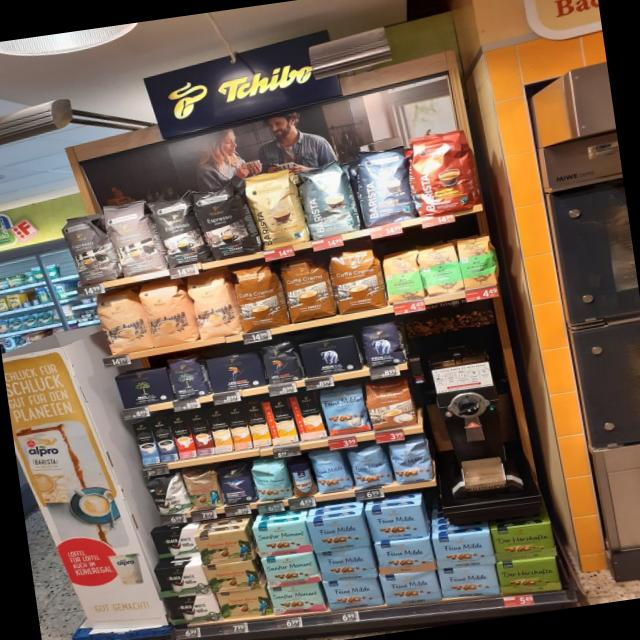AB Bohne: (361, 320, 407, 368)
AB Gemahlen: (298, 334, 361, 378), (454, 232, 500, 290)
Athiopien Gemahlen: (418, 241, 462, 297), (381, 252, 425, 304)
BM Bohne: (166, 353, 210, 401)
BM Gemahlen: (113, 366, 174, 412)
BW Bohne: (144, 477, 188, 518)
BW Gemahlen: (154, 562, 207, 600), (167, 592, 220, 627), (152, 526, 202, 562)
Barista CB: (241, 165, 313, 253)
Barista CC: (294, 157, 363, 241), (351, 143, 416, 229)
Barista Kolumbien: (404, 132, 476, 216)
C Fino Bohne: (218, 462, 256, 506)
CC Mild: (138, 276, 199, 348), (187, 268, 241, 341), (94, 288, 150, 358)
CC Vollmundig: (365, 378, 417, 433)
CC Vollmundig 36 Pads: (328, 242, 388, 316), (280, 251, 338, 322), (232, 262, 290, 332)
Colombia BB Bohne: (180, 468, 223, 512)
Colombia BB Gemahlen: (192, 528, 255, 568), (202, 558, 264, 598), (216, 584, 272, 623)
Espresso Aromatisch: (99, 196, 169, 278), (58, 209, 122, 288)
Espresso Kraftig: (188, 179, 265, 262), (150, 191, 215, 269)
FM 36 Pads: (320, 384, 371, 439)
FM Bohne: (387, 438, 435, 488), (346, 444, 394, 492), (308, 449, 354, 495)
FM Gemahlen: (372, 534, 437, 578), (432, 528, 496, 572), (364, 500, 428, 544), (378, 566, 442, 609), (438, 560, 500, 604), (322, 573, 384, 613)
FM Instant: (288, 460, 320, 500)
Herzhatfe Mundig: (497, 553, 564, 598), (491, 519, 558, 564)
LG Bohne: (261, 339, 302, 386)
LG Gemahlen: (204, 350, 266, 394)
SM Bohne: (250, 459, 292, 504)
SM Gemahlen: (251, 519, 312, 560), (260, 550, 320, 590), (268, 581, 326, 617)
Simo CCMild: (262, 397, 300, 445)
Simo CCMild bigpack: (244, 401, 272, 447)
Simo CCVollmundig: (289, 392, 327, 441)
Simo CCVollmundig bigpack: (225, 405, 253, 450)
Simo Decaff: (207, 407, 235, 453)
Simo Es Brazil: (169, 413, 198, 460)
Simo Es Caramel: (187, 410, 216, 455)
Simo Es Kraft: (150, 417, 179, 462)
Simo Es Vanilla: (133, 419, 161, 465)
